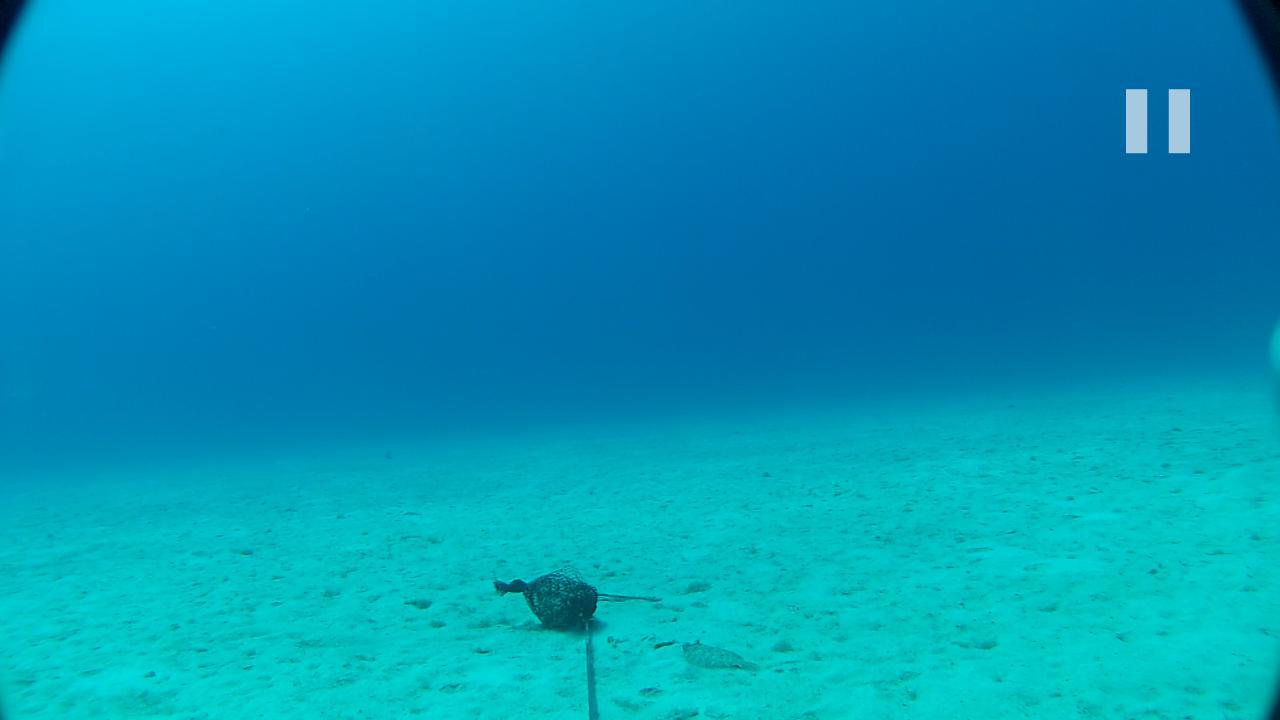bothus: (674, 632, 764, 680)
